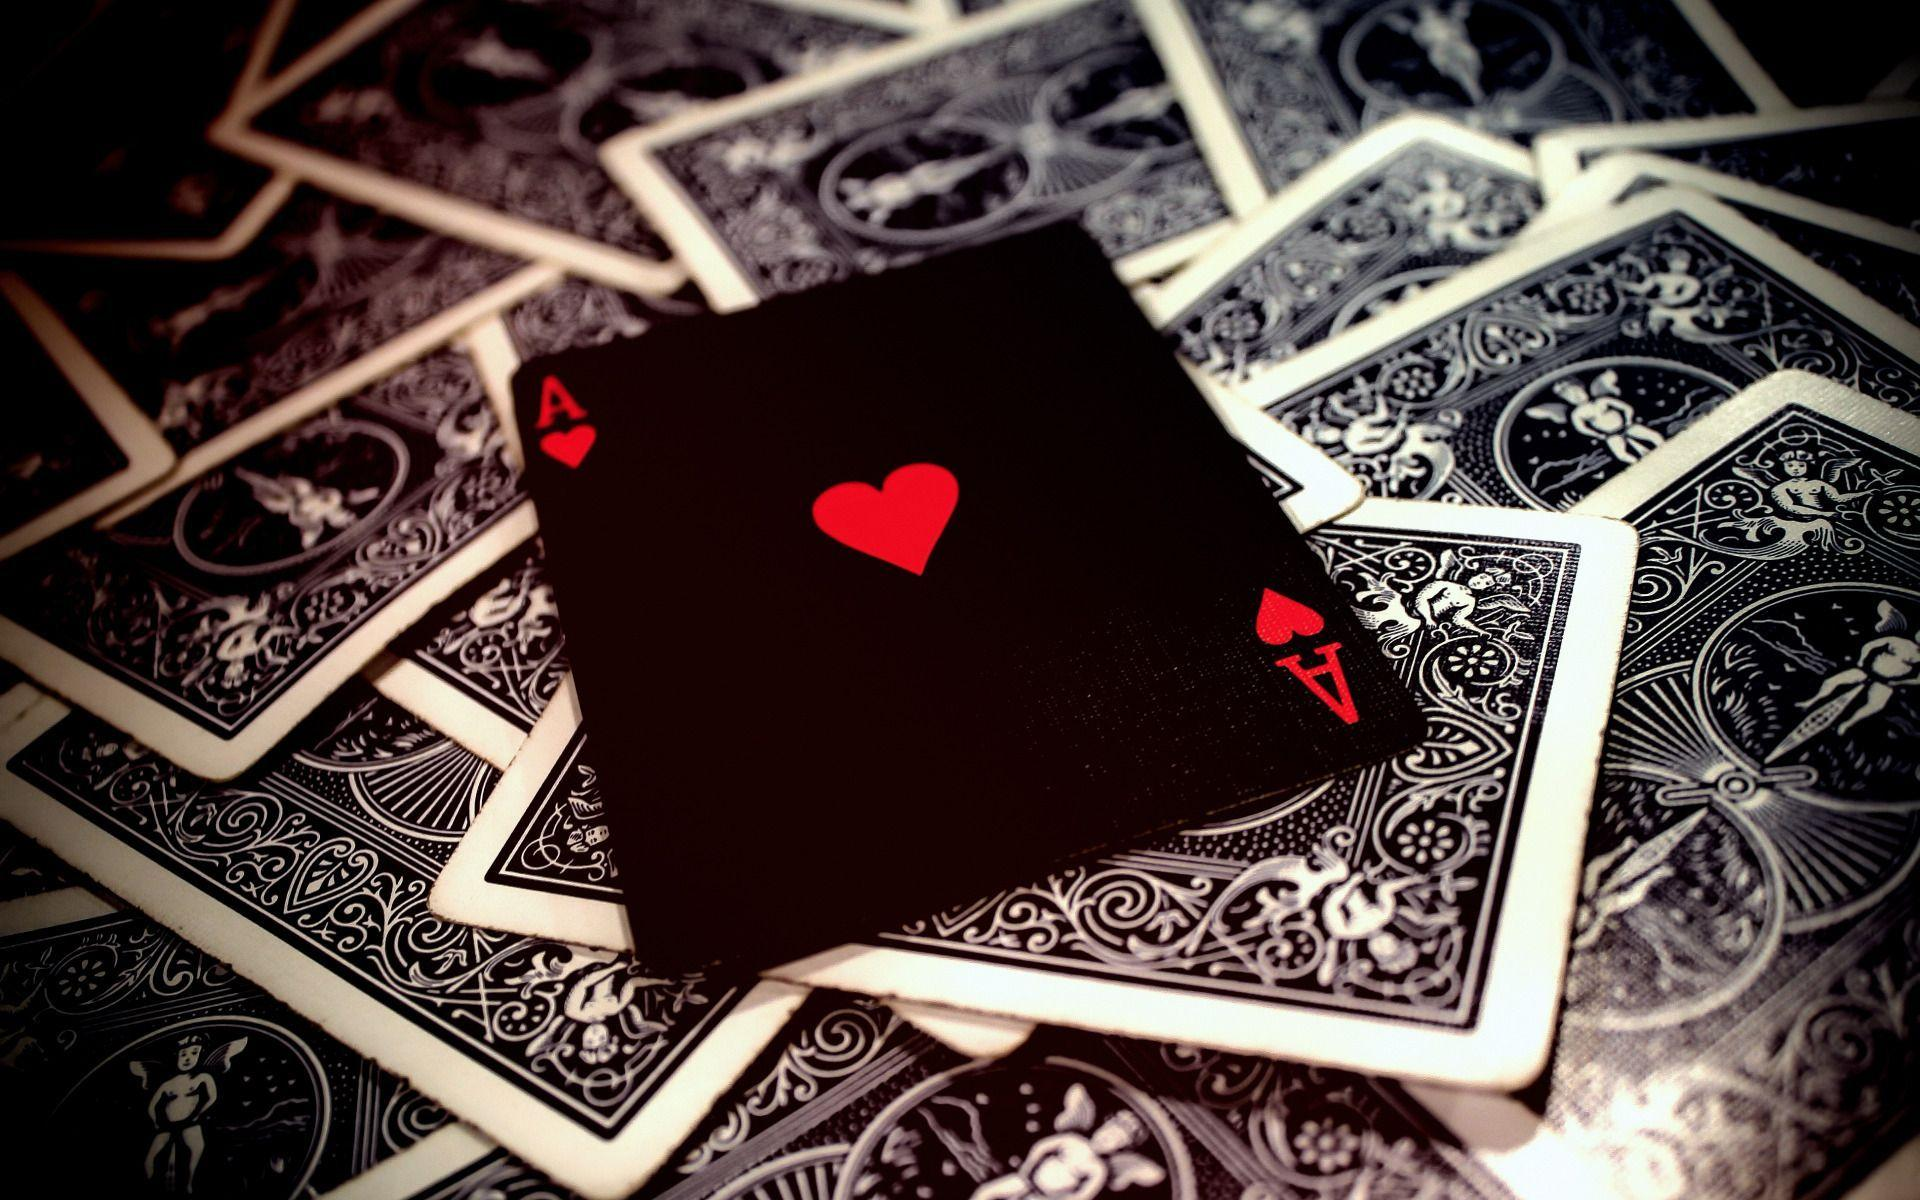ace of hearts: (506, 210, 1430, 980)
